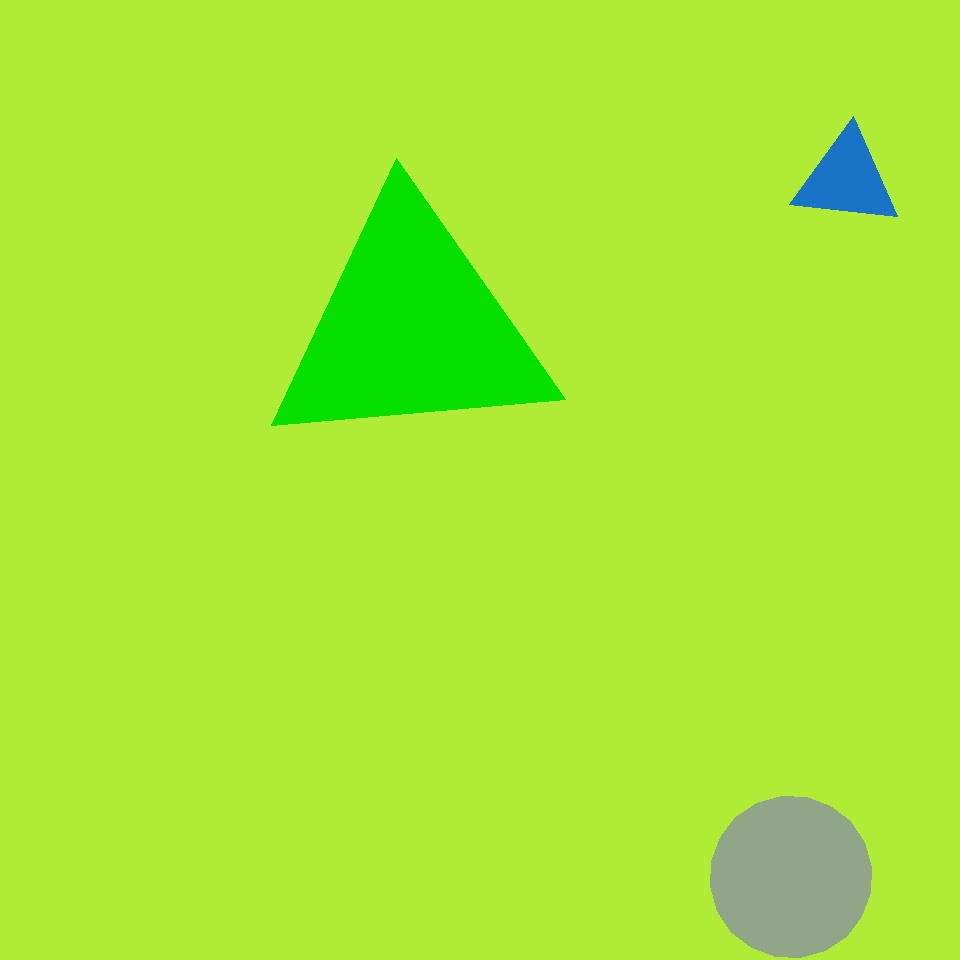circle: (130, 568, 427, 860), (264, 194, 558, 462), (423, 405, 540, 509), (793, 129, 901, 229)
square: (700, 598, 921, 819)
triangle: (710, 796, 872, 958), (312, 381, 437, 506)
